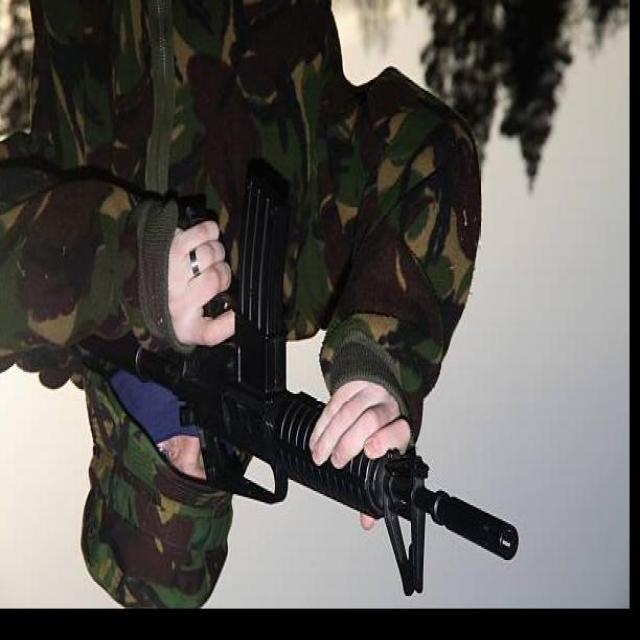weapon: (78, 155, 520, 594)
